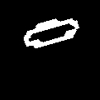chain: (24, 19, 78, 47)
